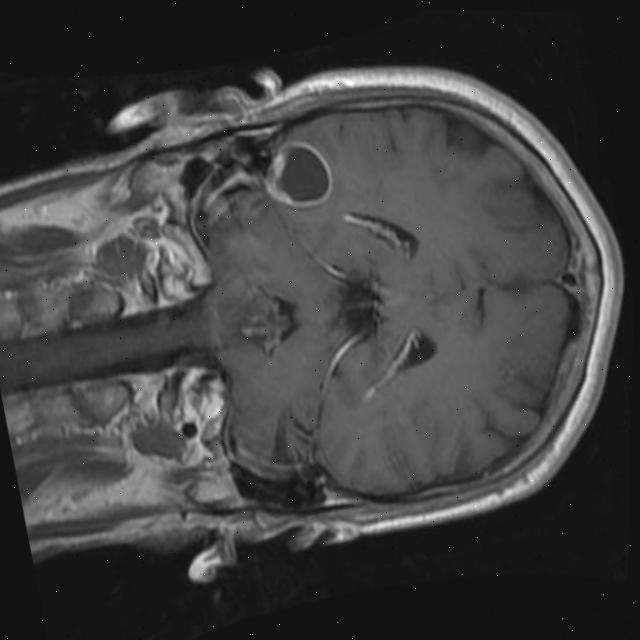Glioma: (255, 134, 340, 217)
